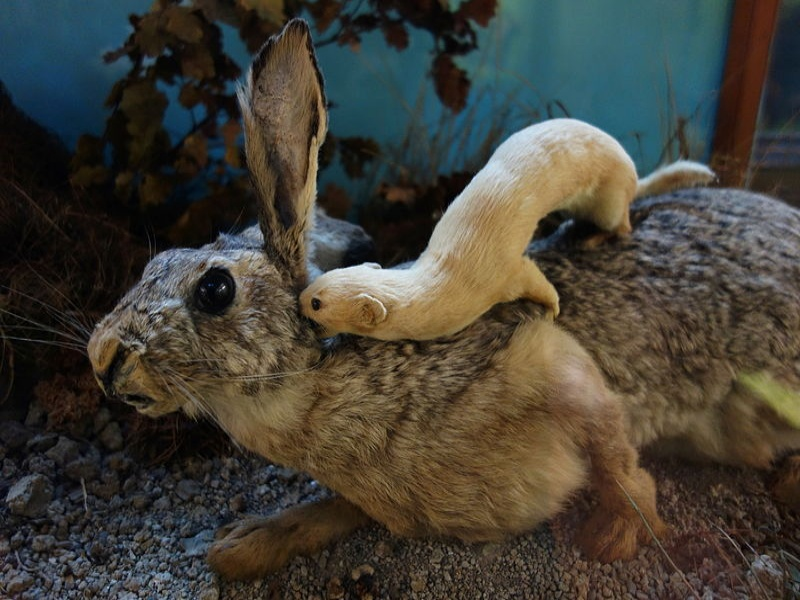minkish: (299, 106, 724, 344)
